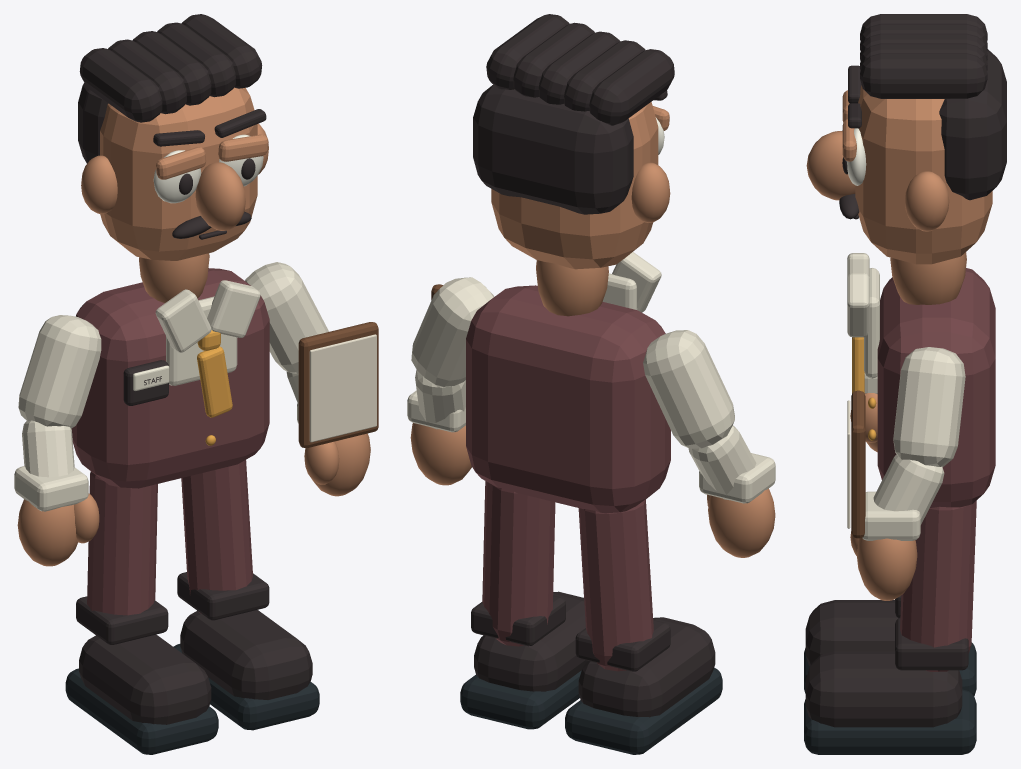
Rendered from coordinator.glb.
The picture shows the model from 3 angles, left to right: view 1: azimuth 30°, elevation 25°; view 2: azimuth 150°, elevation 25°; view 3: azimuth 270°, elevation 25°; orthographic projection. The views are drawn at different scales.
Visible parts, largest first — view 1: coordinator; view 2: coordinator; view 3: coordinator.
Boxes of the visible parts, x1,y1,x2,y2 form: coordinator: (14, 14, 378, 754); coordinator: (407, 14, 775, 754); coordinator: (804, 14, 1006, 754).
Size of the model in its own units: 1.3 by 2.35 by 0.635.
